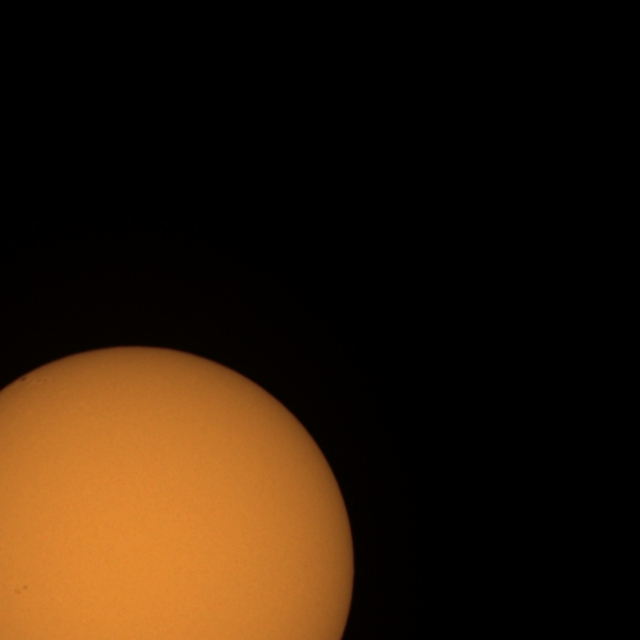sunspot: (13, 584, 29, 596)
